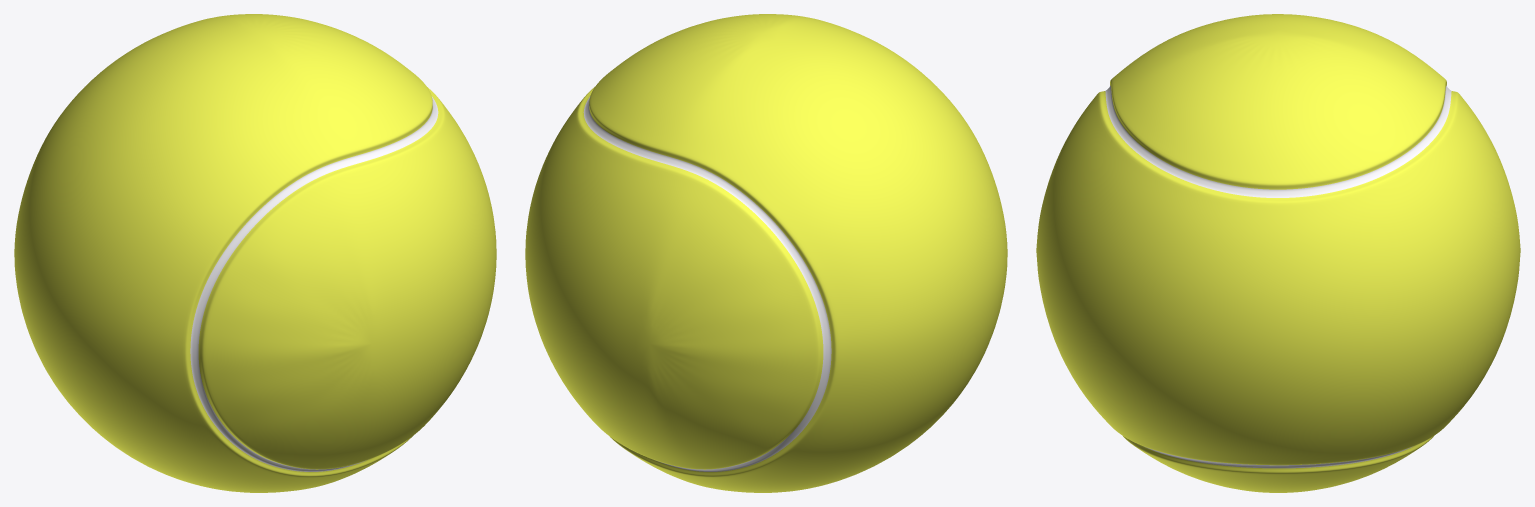
File: tennis ball.glb
3 renders of one model, left to right at view 1: azimuth 30°, elevation 25°; view 2: azimuth 150°, elevation 25°; view 3: azimuth 270°, elevation 25°, orthographic.
Visible parts, largest first — view 1: tennisBall; view 2: tennisBall; view 3: tennisBall.
Boxes of the visible parts, box(x1,y1,x2,y2) form: tennisBall: box(14, 14, 496, 492); tennisBall: box(525, 14, 1007, 492); tennisBall: box(1036, 14, 1520, 492).
Bounding box in the file's own units: 0.068 × 0.068 × 0.068.
